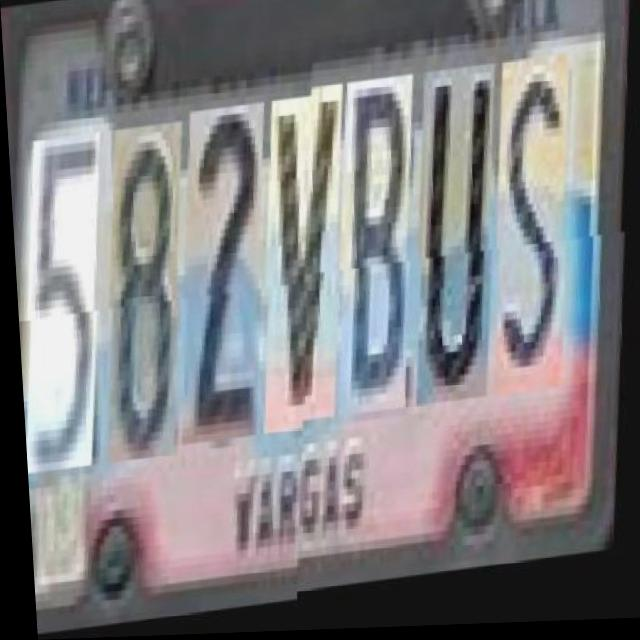2: (170, 109, 286, 450)
5: (13, 135, 121, 474)
8: (95, 126, 204, 466)
b: (326, 94, 434, 434)
s: (483, 77, 591, 417)
u: (404, 86, 516, 425)
v: (253, 102, 364, 441)
